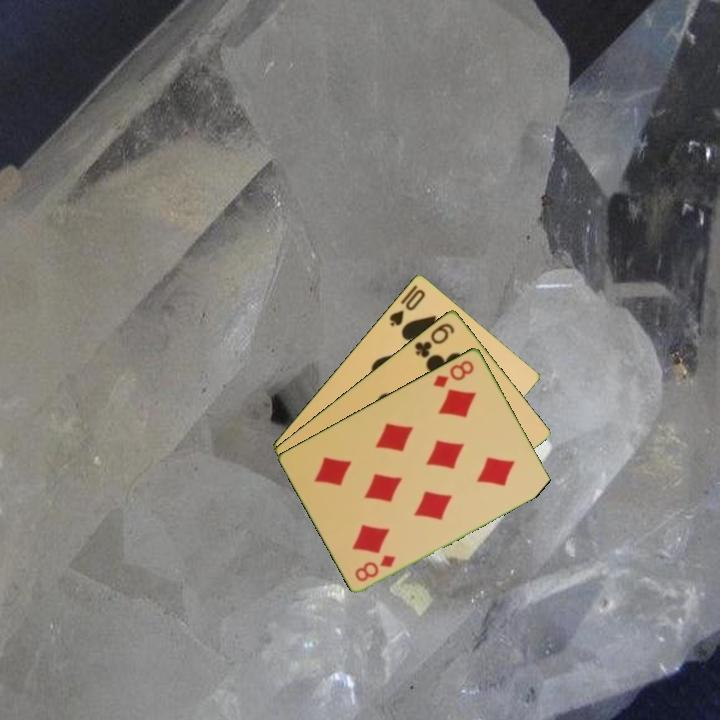10s: (386, 285, 428, 329)
6c: (411, 319, 457, 360)
8d: (429, 356, 477, 390), (351, 551, 399, 584)
